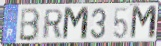3: (90, 7, 108, 40)
5: (112, 7, 130, 40)
B: (18, 7, 42, 43)
M: (129, 5, 159, 41), (61, 6, 91, 42)
R: (41, 9, 65, 41)
